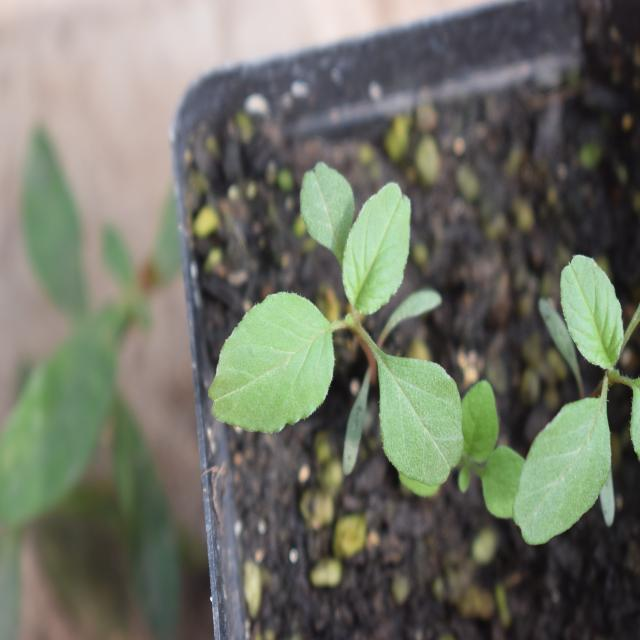pigweed: (218, 153, 482, 500)
